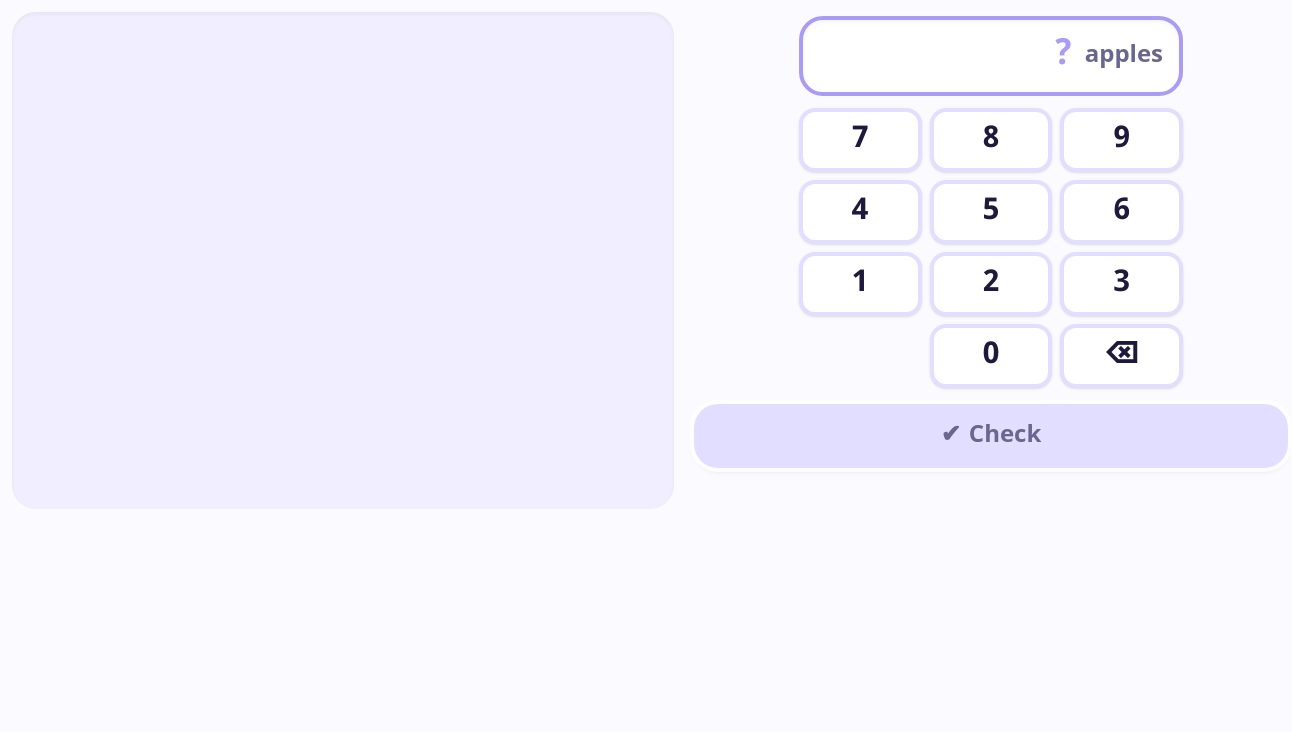
Test: ChallengeStage: number › accepts typing in the answer field and Enter to check
The width and height of the screenshot is (1292, 732).
Click the field.
click(946, 56)  # box [819,28,1073,84]
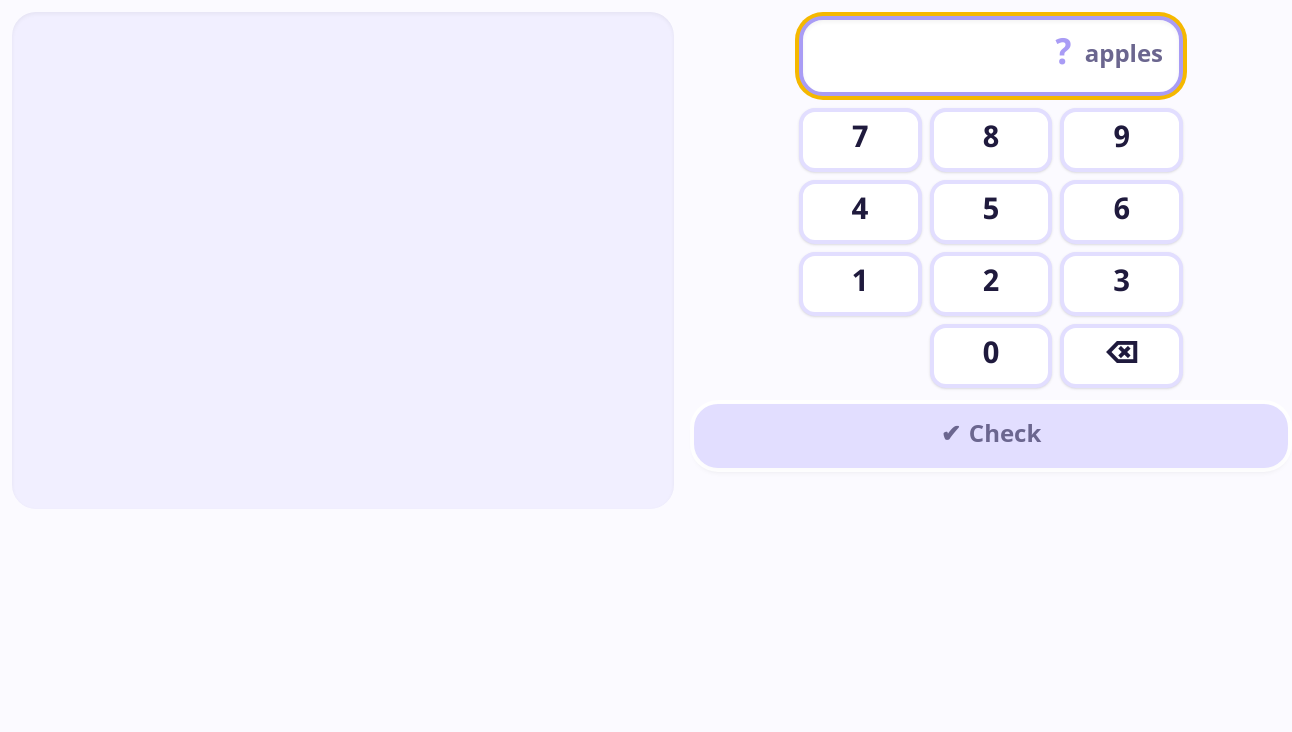
Type keys "1a2{Enter}"
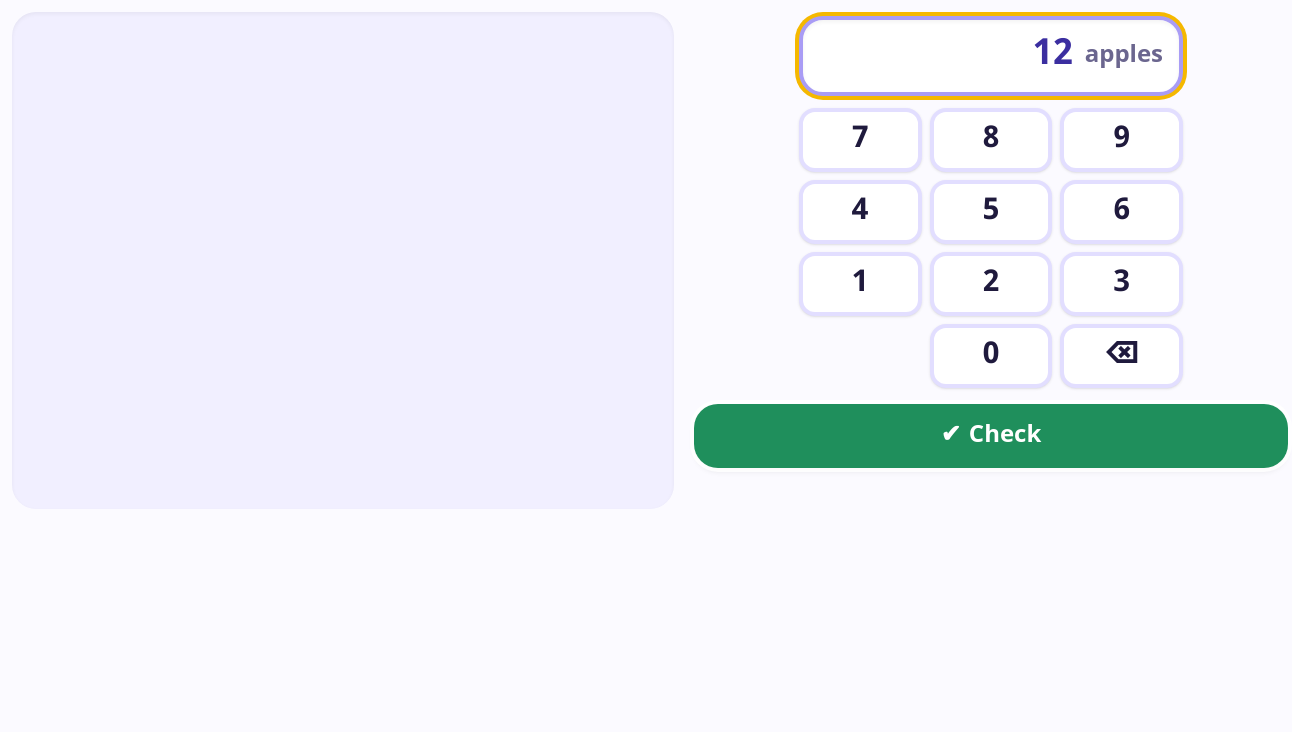
Expected: the field holds "12", [819,28,1073,84]
